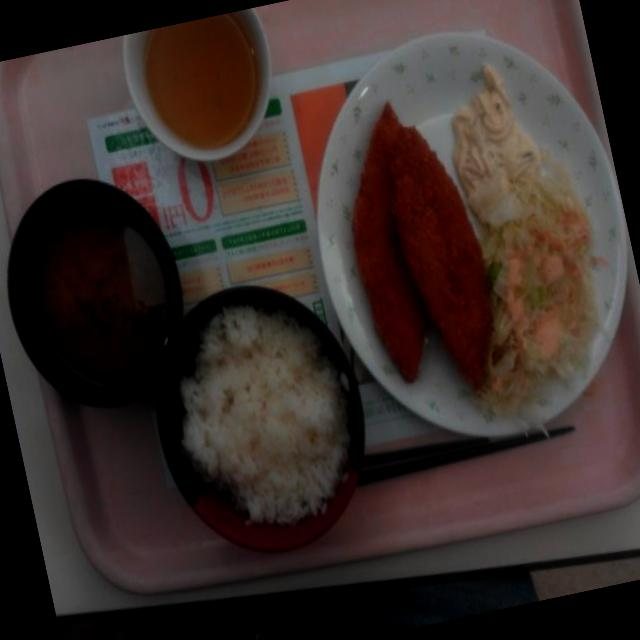Rice: (160, 288, 362, 552)
